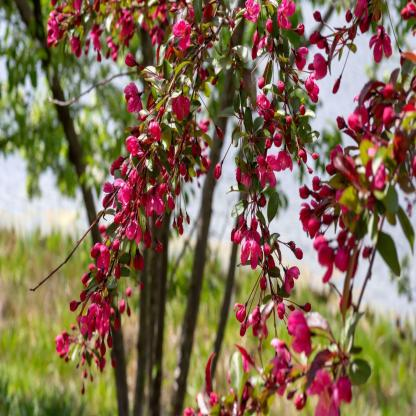other: (216, 115, 315, 388), (96, 11, 324, 104), (91, 123, 181, 337), (332, 87, 403, 277)
